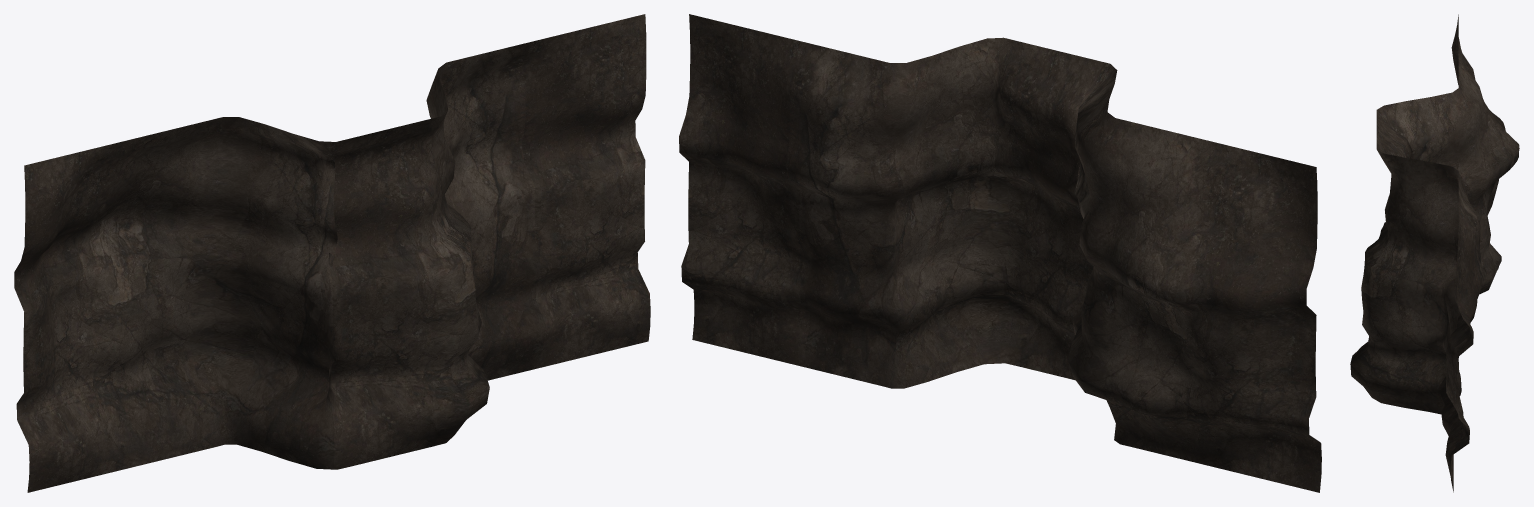
File: cliff_wall_notch_8m_upper.glb
3 renders of one model, left to right at view 1: azimuth 30°, elevation 25°; view 2: azimuth 150°, elevation 25°; view 3: azimuth 270°, elevation 25°, orthographic. The views are drawn at different scales.
Visible parts, largest first — view 1: cliff_wall_notch_8m_upper; view 2: cliff_wall_notch_8m_upper; view 3: cliff_wall_notch_8m_upper.
Part boxes in pixels (x1,y1,x2,y2): cliff_wall_notch_8m_upper: [14, 14, 650, 492]; cliff_wall_notch_8m_upper: [679, 14, 1321, 492]; cliff_wall_notch_8m_upper: [1350, 14, 1519, 492].
Bounding box in the file's own units: 8 × 4 × 2.47.
Materials: 1 (1 with a texture image).
